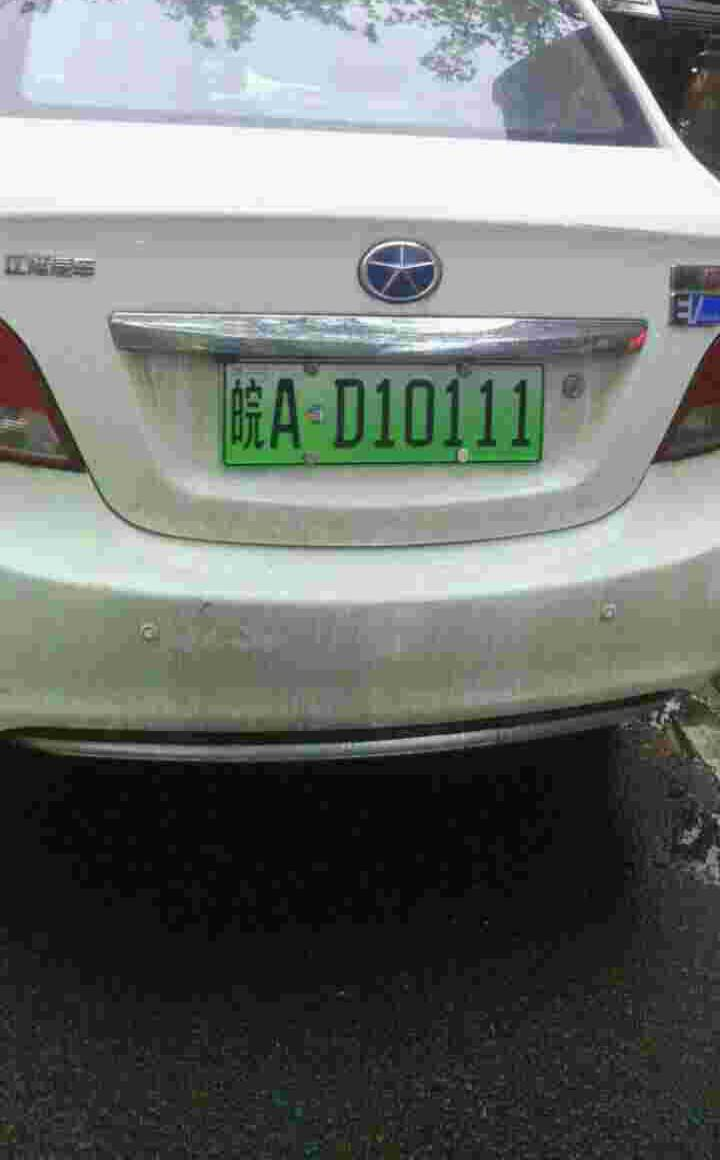car_id: (222, 363, 544, 461)
